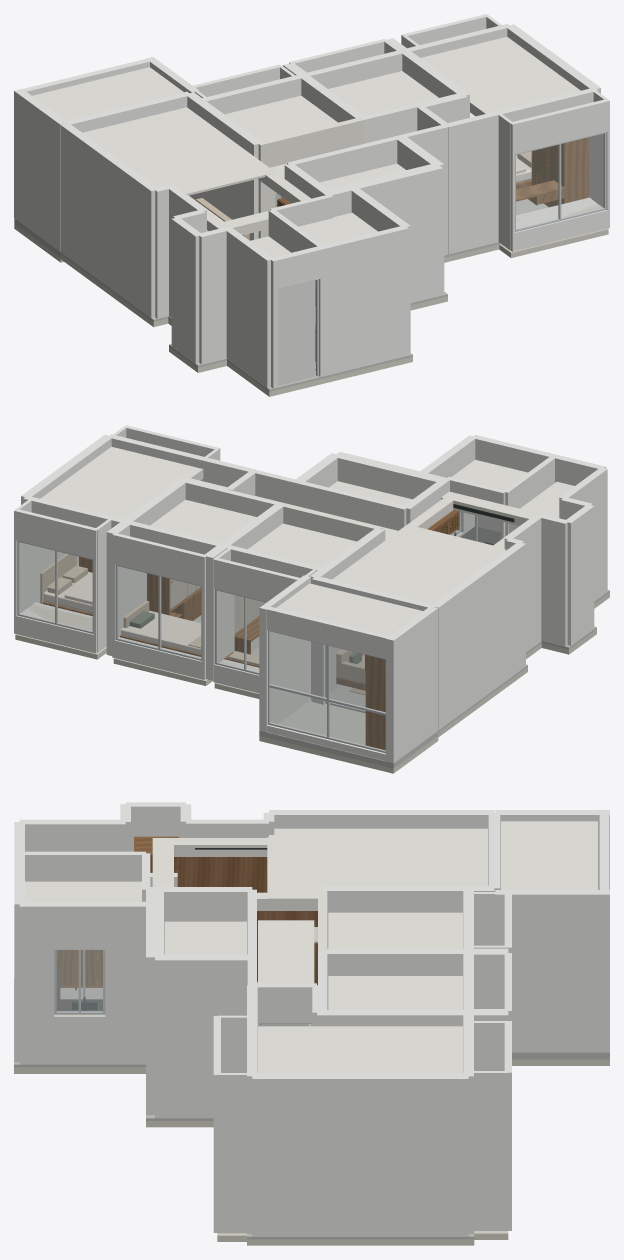
File: MYM-06-确认立面顺序.glb
3 renders of one model, top to bottom at view 1: azimuth 30°, elevation 25°; view 2: azimuth 150°, elevation 25°; view 3: azimuth 270°, elevation 25°, orthographic. The views are drawn at different scales.
Visible parts, largest first — view 1: W-living-west-jamb-0, W-kitchen-exterior-south-jamb-0, C-panel-living, W-bay-master-bottom-room-jamb-0, C-panel-master, W-balcony-left-jamb-0, W-entry-west-jamb-0, W-bathroom-south-jamb-3, C-panel-balcony, W-west-niche-jamb-0, D-entry-leaf, W-west-return-south-jamb-0 (+54 smaller); view 2: W-living-west-jamb-0, C-panel-living, W-balcony-left-jamb-0, C-panel-master, WIN-balcony-glass-b, WIN-balcony-glass-a, W-balcony-right-jamb-0, C-panel-balcony, W-west-niche-jamb-0, W-west-return-jamb-0, FIN-balcony-pending, W-balcony-front-lintel-2 (+72 smaller); view 3: W-master-east-jamb-0, W-balcony-right-jamb-0, C-panel-living, W-bathroom-east-jamb-0, C-panel-master, W-kitchen-exterior-east-jamb-0, C-panel-balcony, W-kitchen-exterior-east-jamb-3, W-bay-master-top-right-jamb-0, C-panel-bedroom1, W-bay-master-bottom-right-jamb-0, C-panel-bedroom2 (+43 smaller).
Part boxes in pixels (x1,y1,x2,y2): W-living-west-jamb-0: (60, 124, 157, 318); W-kitchen-exterior-south-jamb-0: (321, 225, 408, 375); C-panel-living: (82, 107, 275, 195); W-bay-master-bottom-room-jamb-0: (445, 111, 499, 254); C-panel-master: (421, 37, 580, 113); W-balcony-left-jamb-0: (14, 89, 65, 251); W-entry-west-jamb-0: (226, 227, 273, 387); W-bathroom-south-jamb-3: (390, 164, 442, 302); C-panel-balcony: (32, 67, 183, 120); W-west-niche-jamb-0: (171, 217, 202, 363); D-entry-leaf: (277, 280, 315, 385); W-west-return-south-jamb-0: (199, 227, 229, 364); W-living-west-jamb-0: (432, 542, 525, 730); C-panel-living: (332, 524, 505, 603); W-balcony-left-jamb-0: (385, 606, 438, 763); C-panel-master: (40, 446, 202, 518); WIN-balcony-glass-b: (269, 632, 326, 736); WIN-balcony-glass-a: (329, 646, 385, 750); W-balcony-right-jamb-0: (259, 575, 310, 732); C-panel-balcony: (276, 583, 422, 635); W-west-niche-jamb-0: (566, 504, 594, 645); W-west-return-jamb-0: (538, 514, 569, 646); FIN-balcony-pending: (259, 699, 438, 768); W-balcony-front-lintel-2: (267, 606, 389, 658); W-master-east-jamb-0: (252, 1073, 468, 1236); W-balcony-right-jamb-0: (495, 890, 609, 1052); C-panel-living: (267, 828, 487, 901); W-bathroom-east-jamb-0: (155, 954, 251, 1118); C-panel-master: (258, 1026, 462, 1073); W-kitchen-exterior-east-jamb-0: (105, 901, 145, 1064); C-panel-balcony: (501, 821, 597, 889); W-kitchen-exterior-east-jamb-3: (19, 901, 54, 1064); W-bay-master-top-right-jamb-0: (468, 1071, 508, 1230); C-panel-bedroom1: (328, 912, 462, 948); W-bay-master-bottom-right-jamb-0: (217, 1073, 251, 1233); C-panel-bedroom2: (328, 976, 462, 1009).
Size of the model in its own units: 11.08 by 3.2 by 10.08.
Materials: 26 (8 with a texture image).
